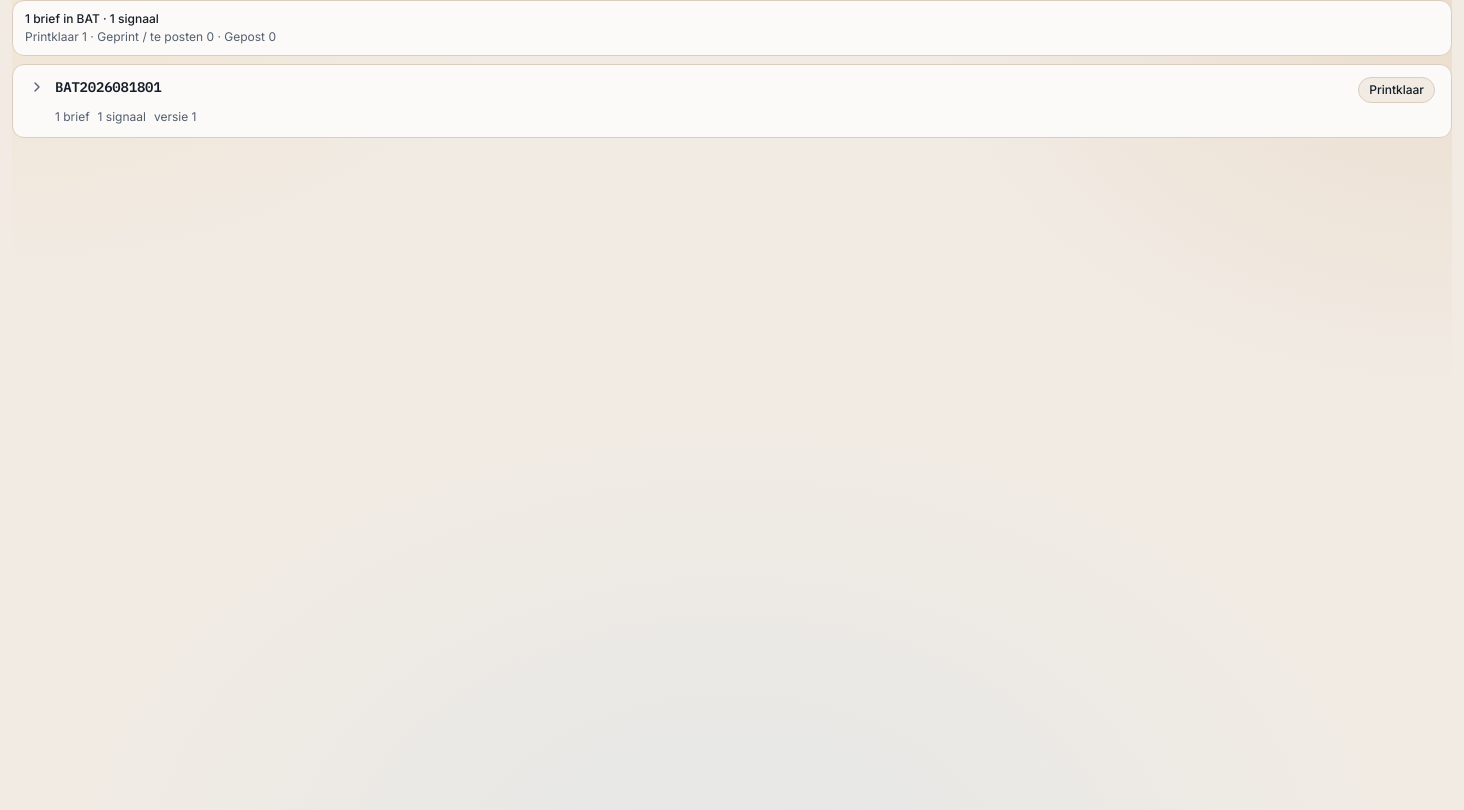
ProductiekernPrintbatchWerkbak › houdt batches standaard compact en toont BR/signaal pas na uitklappen
The width and height of the screenshot is (1464, 810).
Expected: the text "BAT2026081801" is shown, [55,77,162,97]
Expected: the text "1 brief" is shown, [55,109,90,125]
Click the button with test id "productiekern-printbatch-toggle-BAT2026081801" at (108, 87), box [13,65,1451,137]
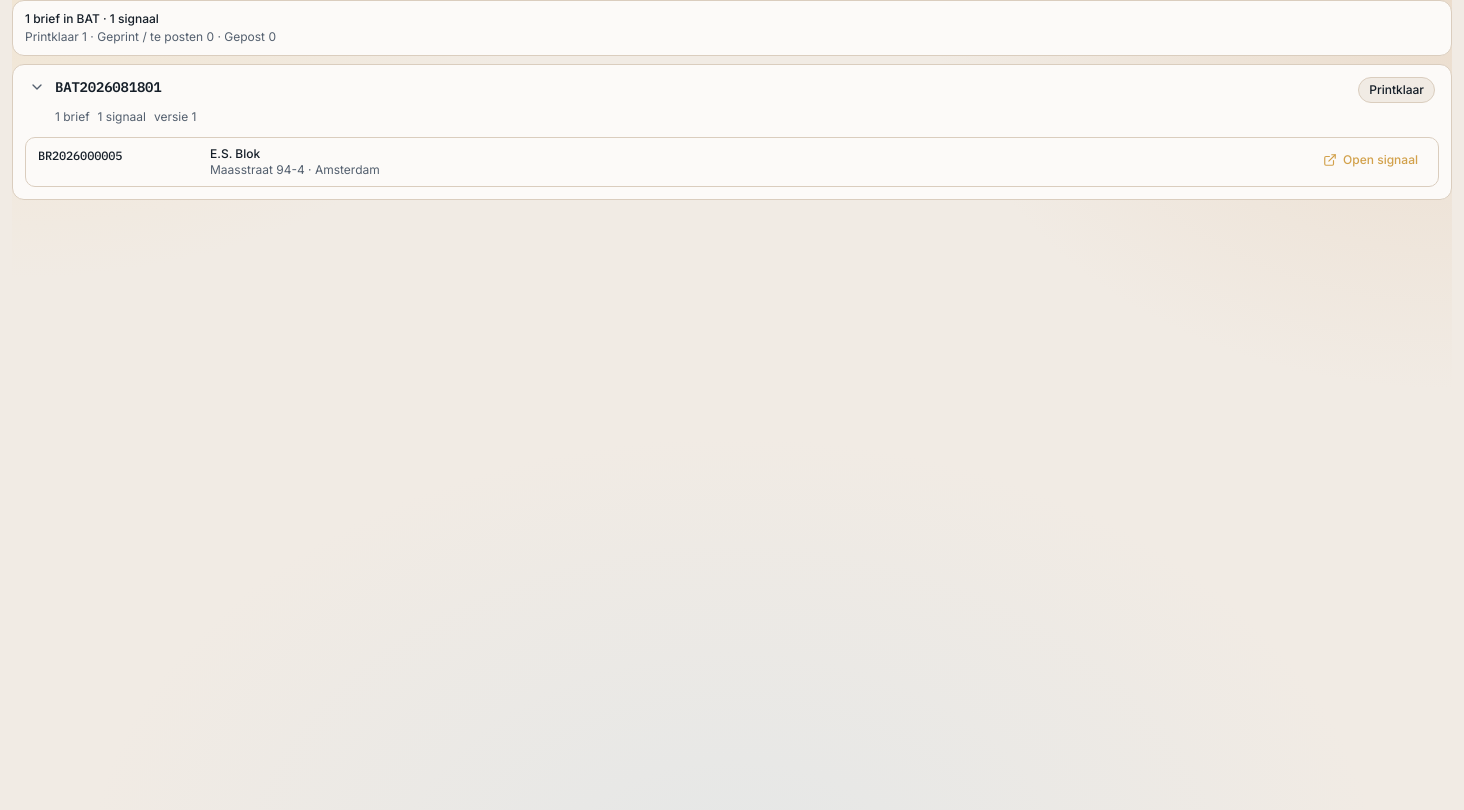
Expected: the button with test id "productiekern-printbatch-toggle-BAT2026081801" is expanded
Expected: the text "BR2026000005" is shown, [38,148,122,163]
Expected: the text "E.S. Blok" is shown, [210,146,260,161]
Click the button with test id "productiekern-printbatch-toggle-BAT2026081801" at (108, 87), box [13,65,1451,137]
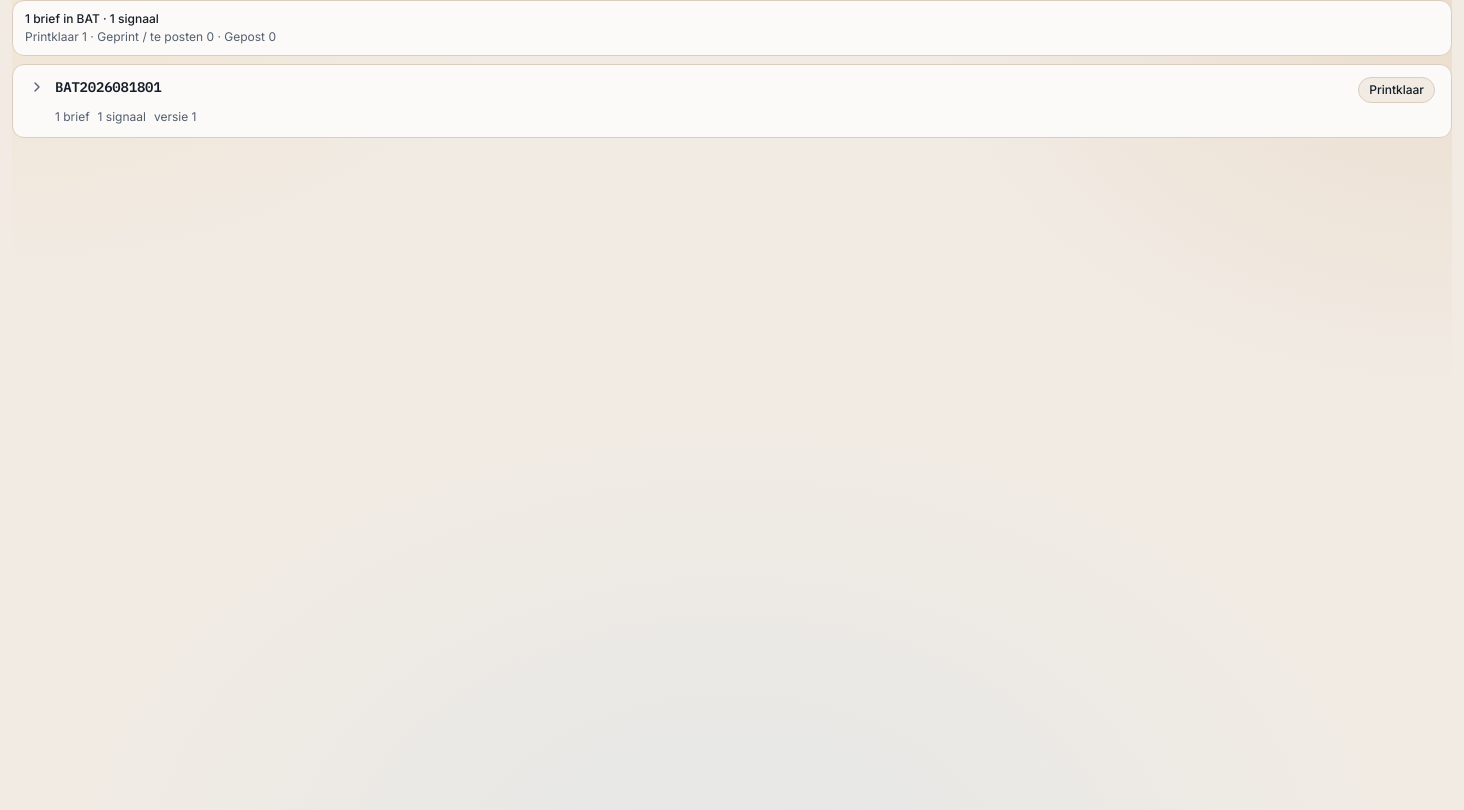
Expected: the button with test id "productiekern-printbatch-toggle-BAT2026081801" is collapsed, [13,65,1451,137]
Expected: the text "BR2026000005" is gone
